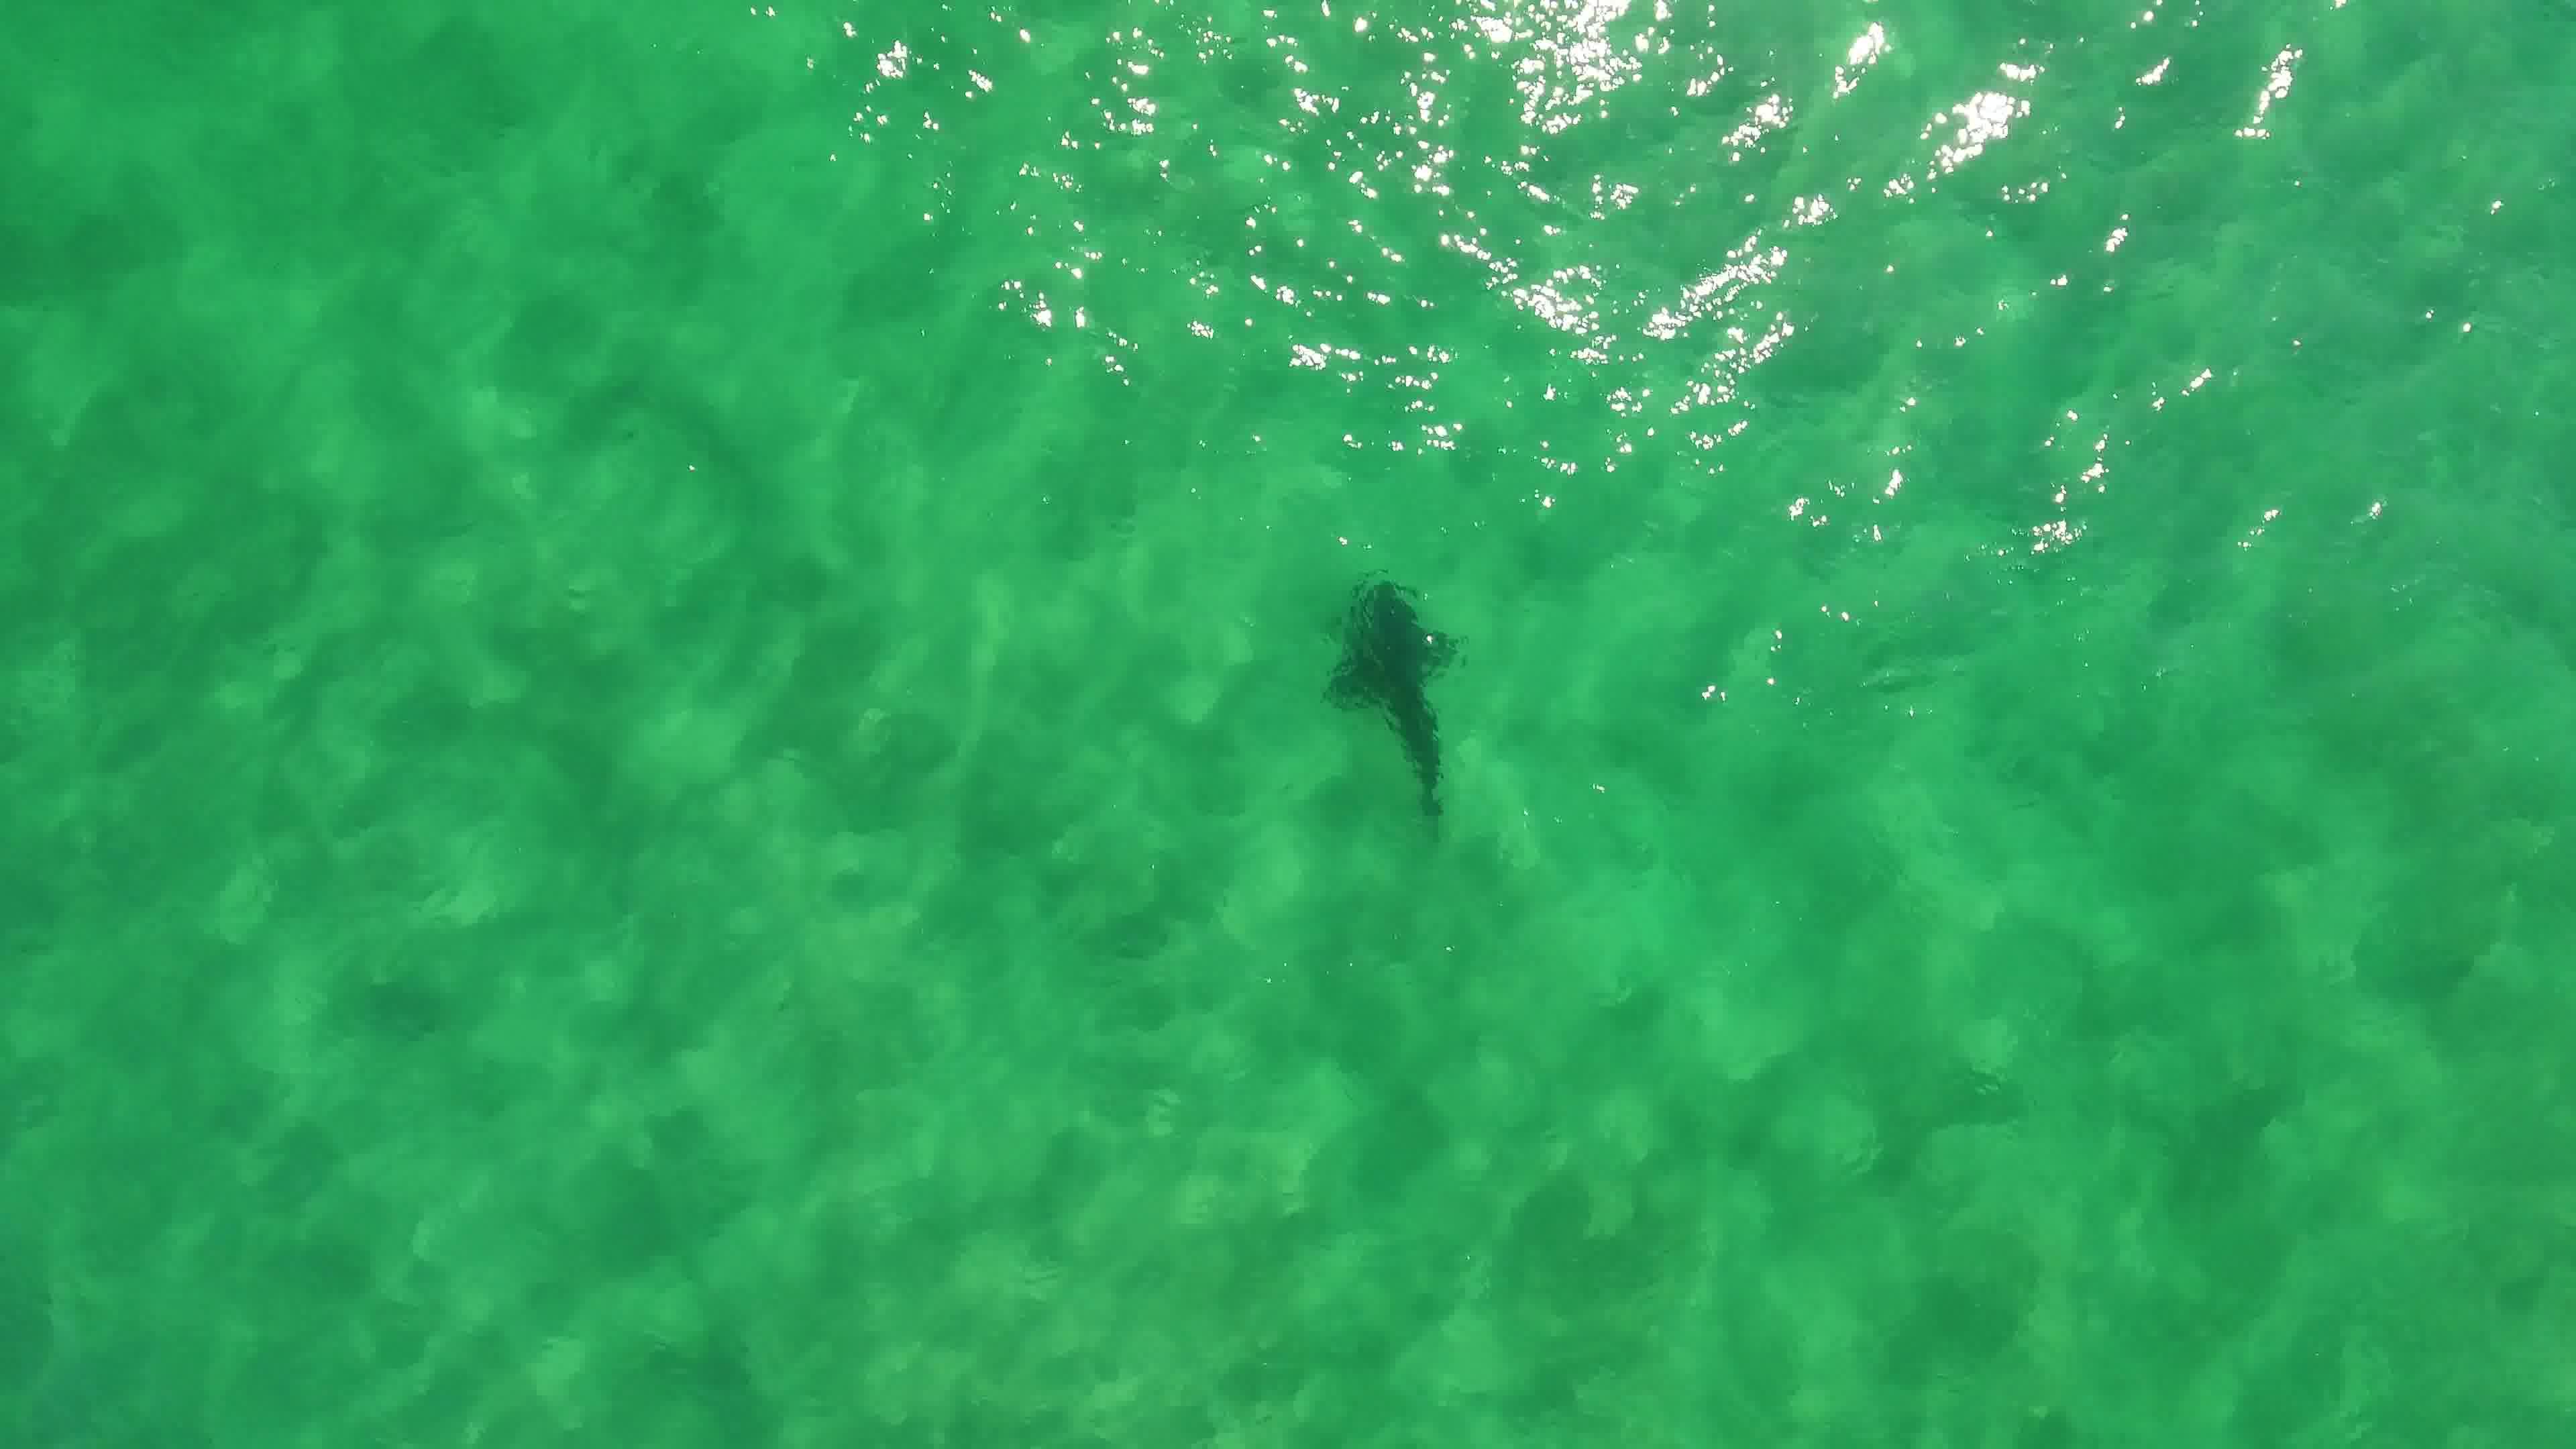shark: (1309, 568, 1468, 828)
